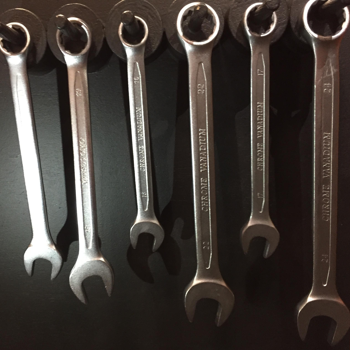bottom: (293, 291, 350, 347), (180, 275, 237, 330), (66, 255, 117, 307), (237, 216, 280, 261), (21, 240, 65, 282), (127, 216, 166, 254)
top: (173, 1, 223, 50), (299, 1, 350, 46), (52, 15, 93, 57), (242, 1, 280, 44), (115, 13, 152, 51), (0, 19, 32, 61)
